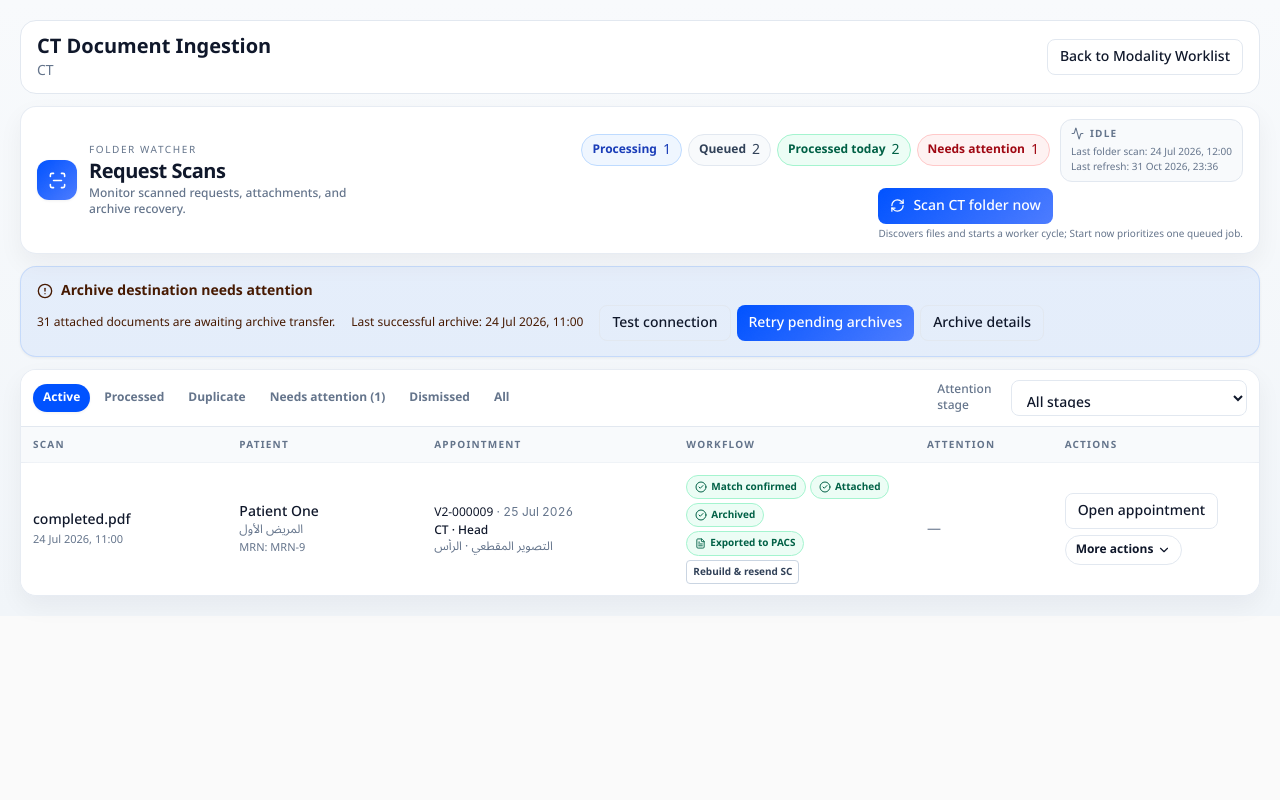
it: RequestScansPage › confirms the SC rebuild warning before posting and refreshes with a success notice
The image size is (1280, 800).
Step 1. Click the button "Rebuild & resend SC" → click(743, 572), box [686,560,800,584]
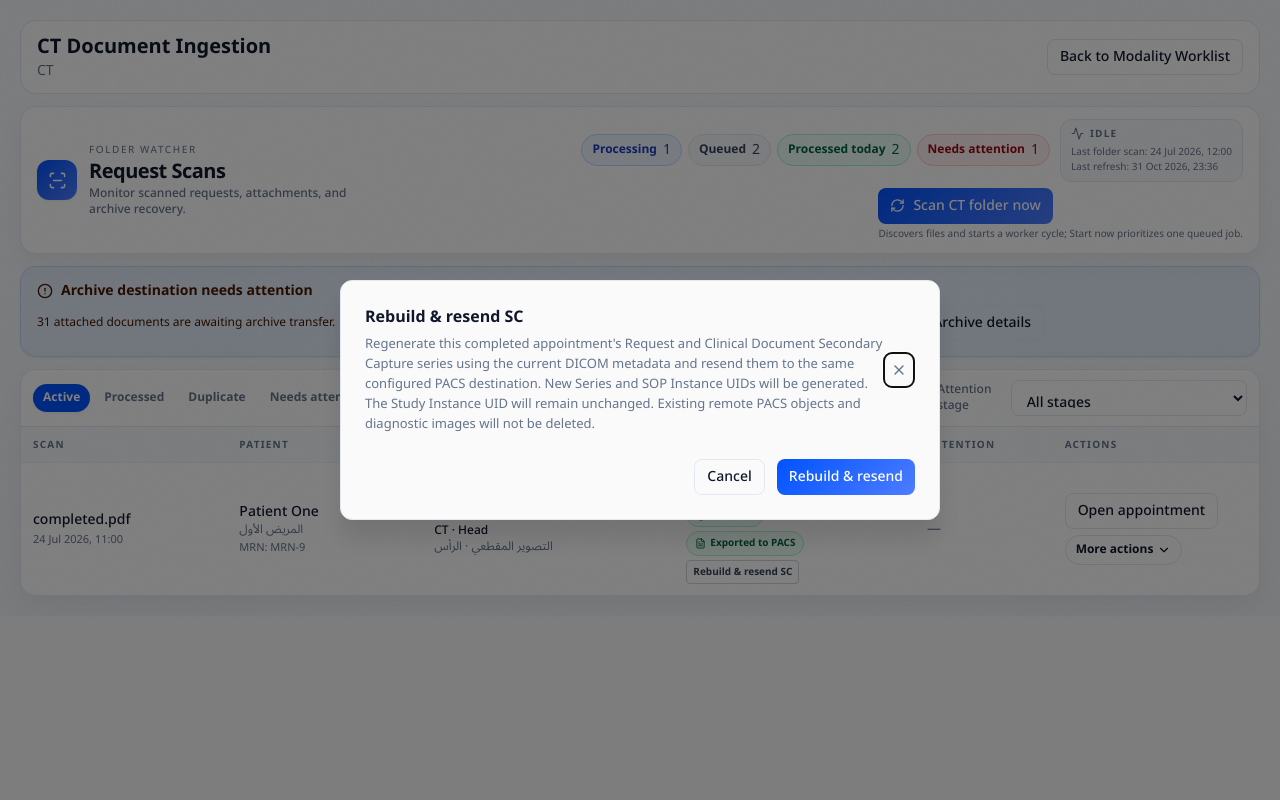
Result: the text "Existing remote PACS objects and diagnostic images will not be deleted" is shown at [365,330,882,438]
Result: the button "Cancel" is shown at [694,458,765,495]
Step 2. Click the button "Rebuild & resend" → click(846, 477), box [777,458,915,495]
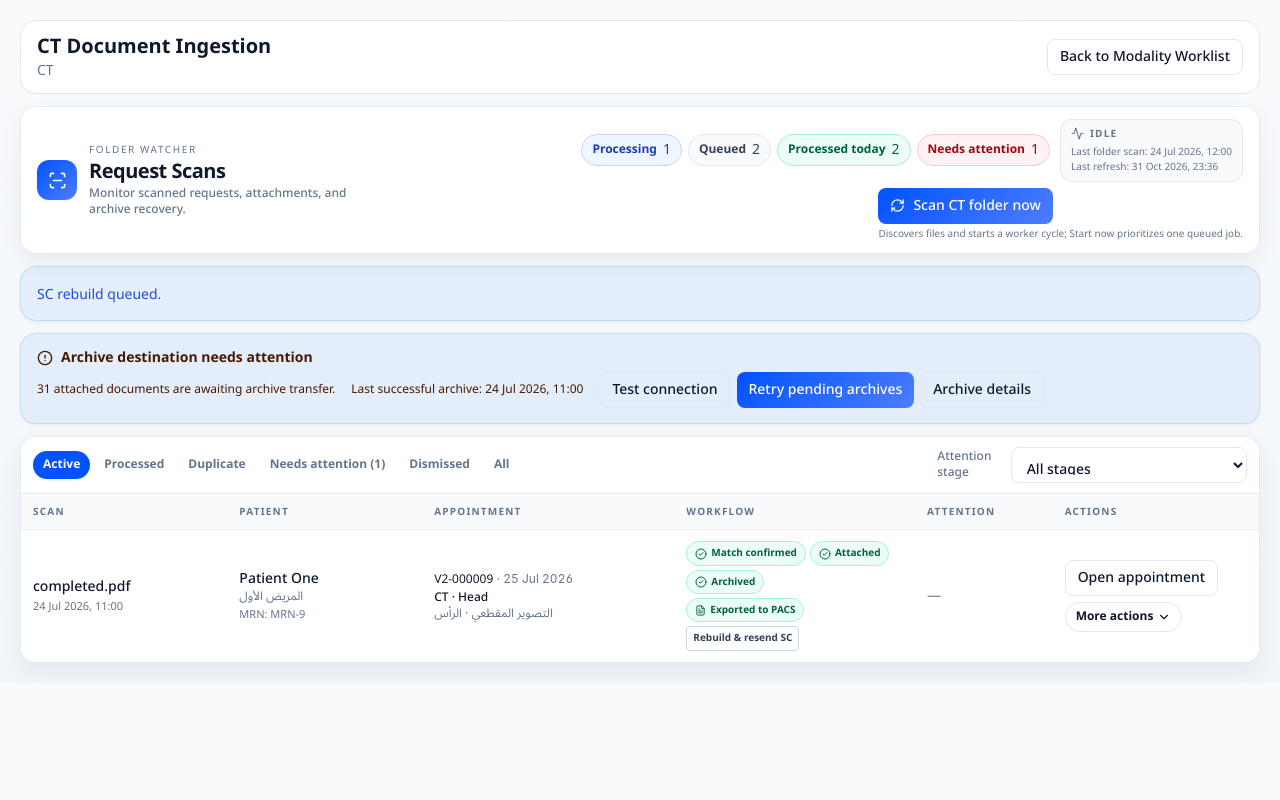
Result: the text "SC rebuild queued." is shown at [37,280,161,309]
